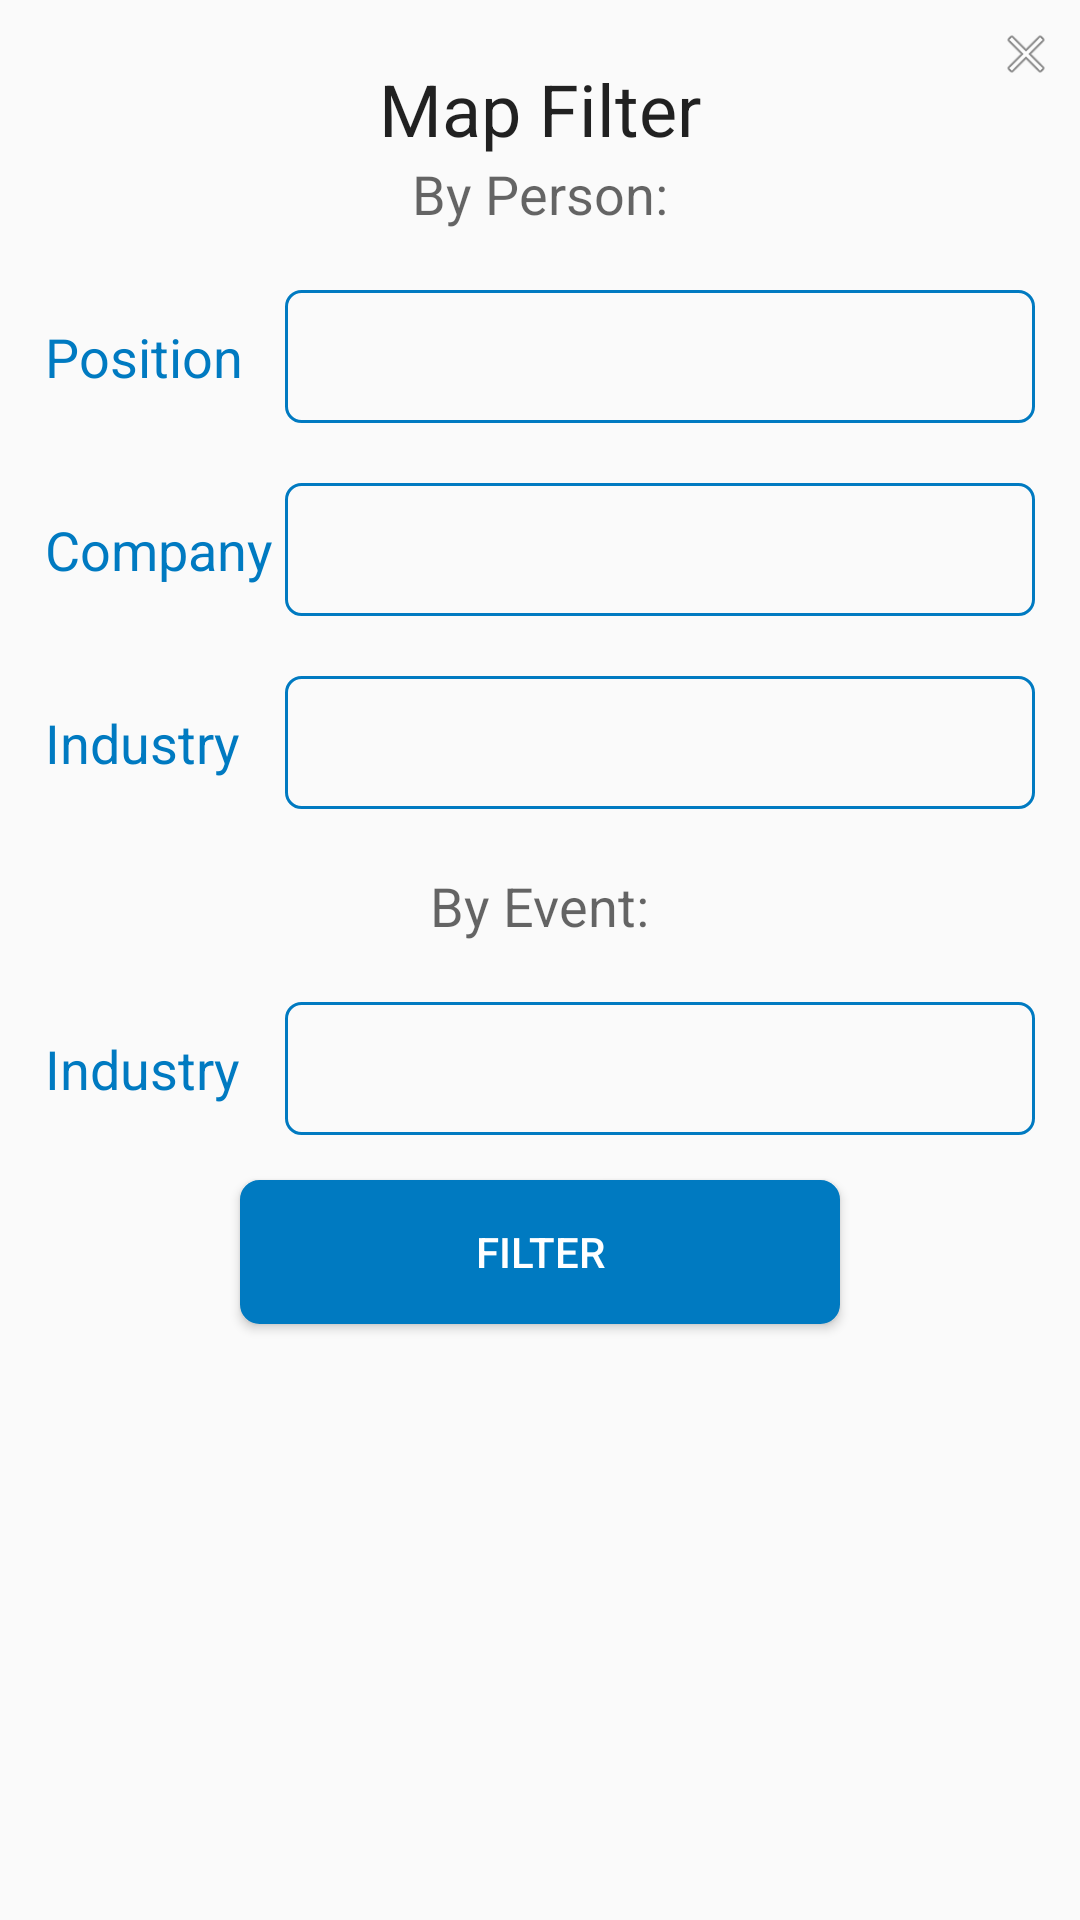

Named icons in this screenshot (1080w x 1920h) and their bounding boxes, (x1, y1, x2, y2):
close clear cancel: (1007, 35, 1045, 73)
